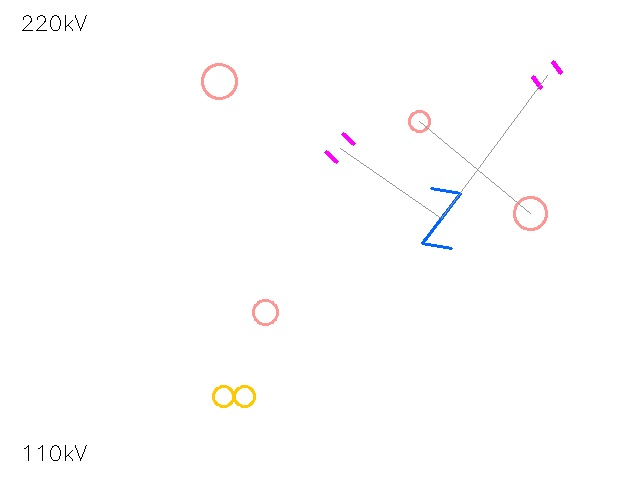capacitor: (319, 127, 361, 169), (526, 54, 568, 96)
circuit_breaker: (410, 187, 472, 249)
disconnect_switch: (185, 47, 253, 115)
feeder_terminal: (498, 181, 562, 245)
load_break_switch: (241, 288, 289, 336)
surge_arrester: (399, 101, 439, 141)
transformer_2w: (208, 370, 260, 422)
